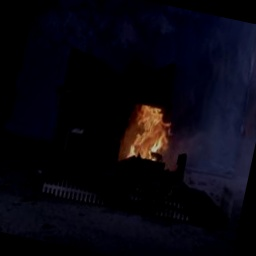fire: (112, 87, 185, 176)
